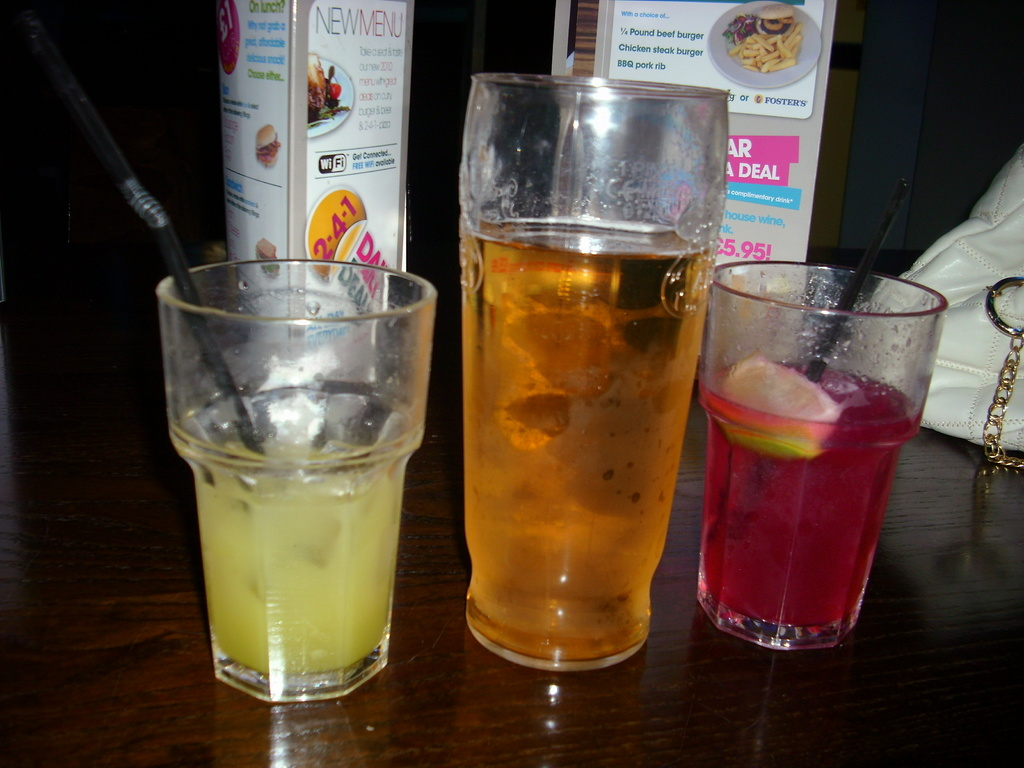Beer: (446, 75, 744, 676), (156, 238, 430, 705), (691, 242, 971, 666)
